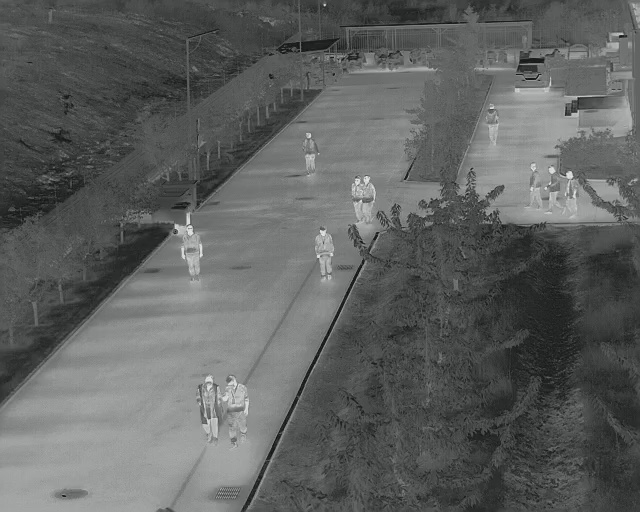person: (224, 374, 252, 451), (310, 223, 339, 288), (197, 373, 223, 443), (180, 224, 208, 280), (525, 161, 545, 213), (301, 128, 322, 172), (563, 170, 581, 219), (363, 173, 378, 223), (548, 164, 563, 214), (484, 102, 500, 145), (350, 172, 364, 220)
vehicle: (516, 56, 552, 93)
